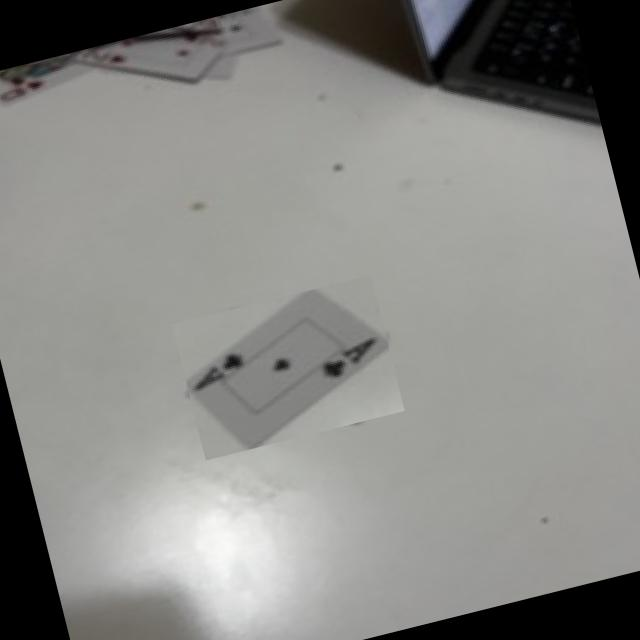Ace of clubs: (186, 290, 387, 448)
